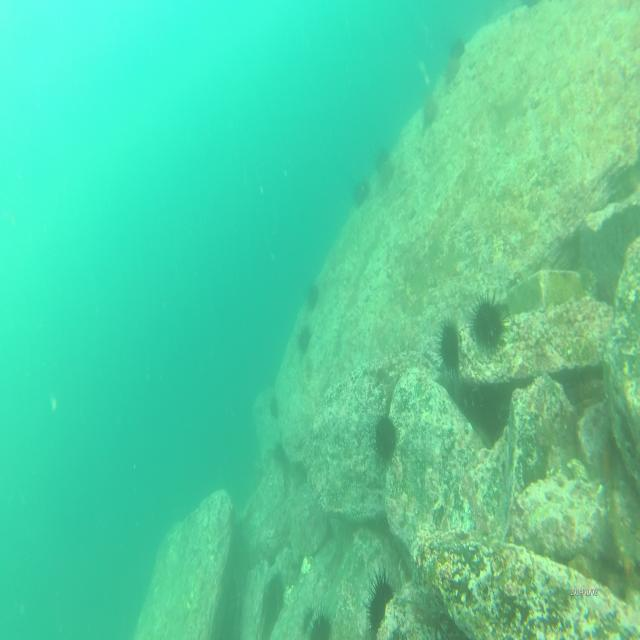echinus: (465, 294, 507, 354), (362, 567, 395, 638), (370, 409, 400, 468), (436, 316, 463, 379), (304, 603, 332, 640), (442, 55, 460, 86), (422, 96, 438, 130), (296, 325, 313, 354), (372, 146, 390, 173), (354, 177, 371, 205), (304, 281, 320, 307), (451, 38, 466, 58), (268, 396, 279, 420)
